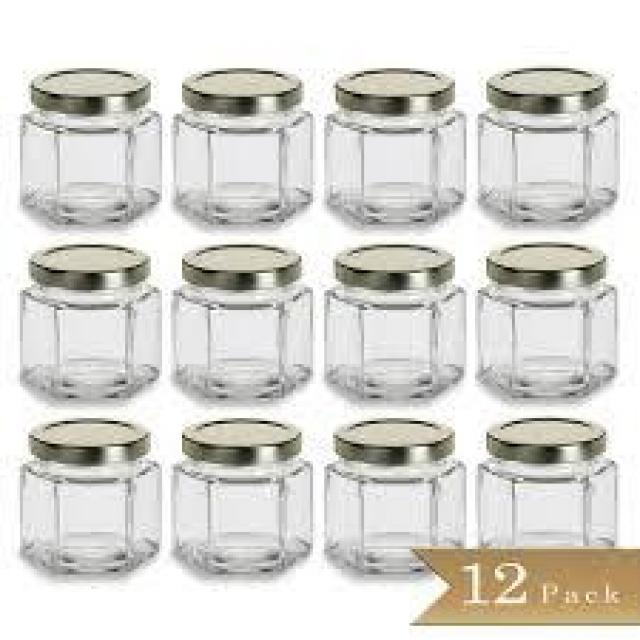non-organic waste: (17, 60, 165, 230)
